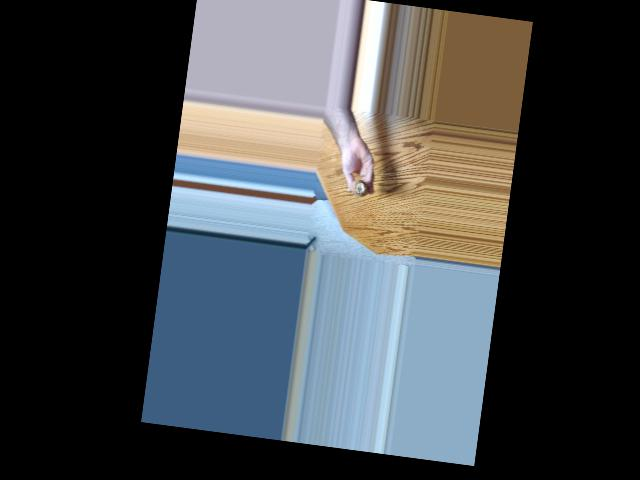sweet_potato: (347, 178, 367, 201)
